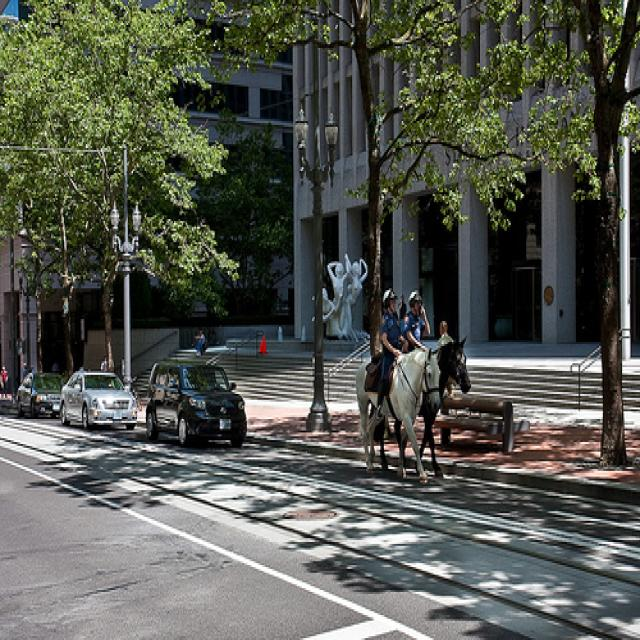Vehicle: (142, 354, 250, 444), (59, 369, 138, 430), (14, 367, 66, 419)
